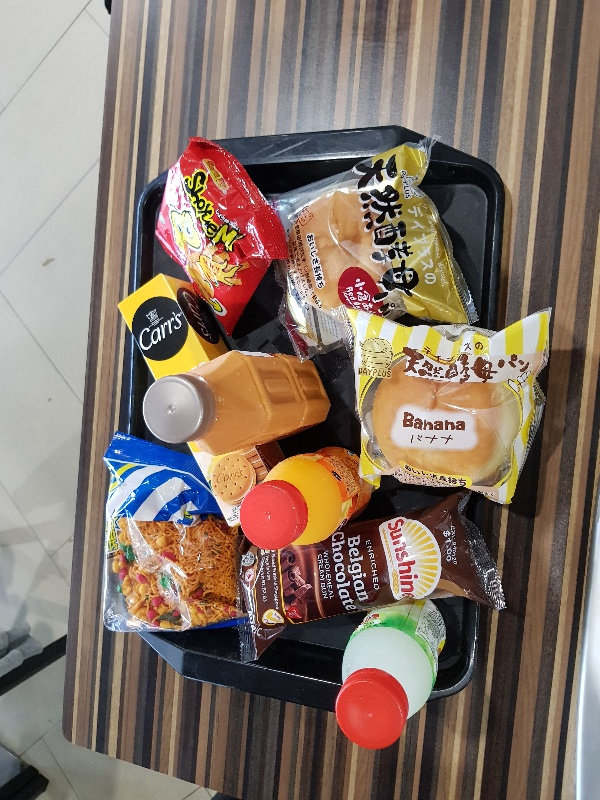Carr's Ginger Lemon Cremes: (114, 271, 284, 530)
Dayplus Banana: (340, 303, 552, 507)
Dayplus Red Bean: (272, 136, 477, 351)
Fruit Tree Yuzu Mixed Juice Drink: (333, 599, 447, 752)
ShoyueMi Spicy Flavoured Snacks: (153, 136, 291, 338)
Star Tidbits Mixer: (102, 432, 247, 634)
Sunkist Orange Juice Drink: (237, 447, 373, 551)
Sunshine Belgium Chocolate Wholemeal Cream Bun: (236, 491, 505, 646)
Thai Milk Tea: (141, 351, 332, 458)
